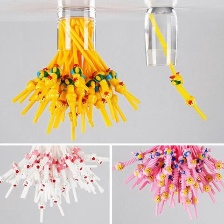drinking_straw: (145, 4, 212, 126)
glass: (141, 2, 180, 70), (52, 2, 99, 52)
